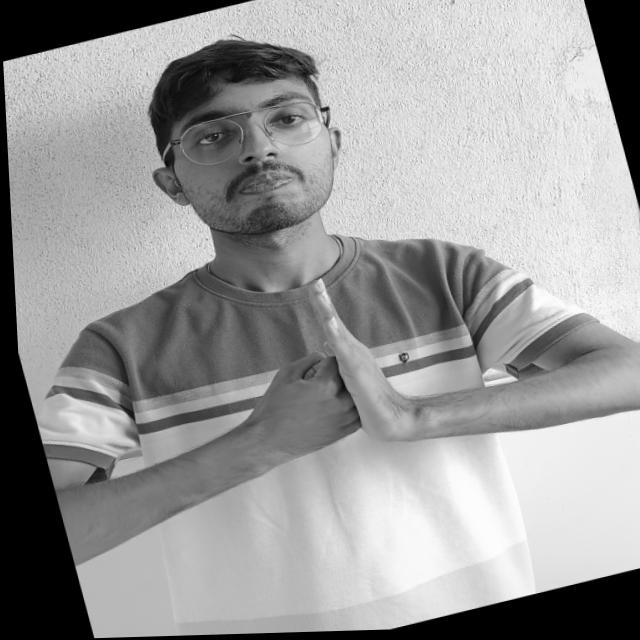Well Done: (139, 230, 538, 542)
